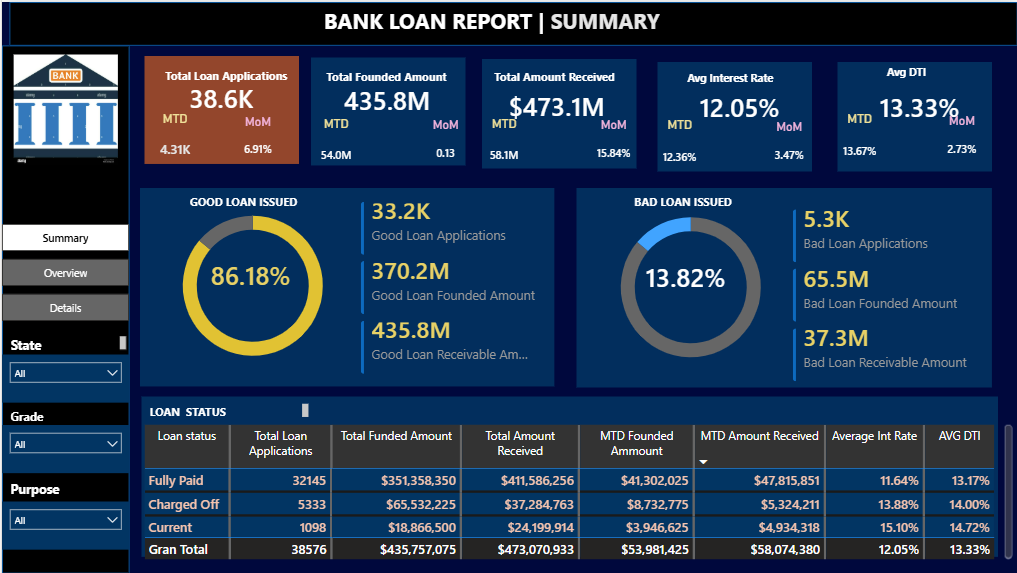

The page's visual inventory and layout, read from the dashboard file:
{"tool":"powerbi","page":{"name":"Summary","canvas":[1280,720],"ordinal":0},"visuals":[{"type":"shape","box":[0,54.8,160.6,665.2],"z":0},{"type":"shape","box":[179.8,68,194.6,136.1],"z":0,"group":"g12"},{"type":"cardVisual","fields":{"Data":["bank_loan_data.Total Funded Amount"]},"box":[395.8,69.9,181.9,104.1],"z":0,"group":"g14"},{"type":"cardVisual","fields":{"Data":["bank_loan_data.Total Loan Applications"]},"box":[181,70.1,190.8,99],"z":0,"group":"g11"},{"type":"shape","box":[825.8,75.6,194.6,138],"z":0,"group":"g2"},{"type":"shape","box":[1052.6,75.6,194.6,138],"z":0,"group":"g1"},{"type":"textbox","box":[1052.1,73.7,173.5,70.2],"z":1000,"group":"g16"},{"type":"textbox","box":[186.9,78,190.8,66],"z":1000,"group":"g9"},{"type":"textbox","box":[602.2,79.4,186.6,70.2],"z":1000,"group":"g13"},{"type":"textbox","box":[390.5,79.6,186.6,70.2],"z":1000,"group":"g7"},{"type":"textbox","box":[823.3,81.3,186.6,70.2],"z":1000,"group":"g17"},{"type":"cardVisual","title":"MTD","fields":{"Data":["bank_loan_data.MTD dti"]},"box":[1029.9,137.4,101.1,81.3],"z":1000,"group":"g3"},{"type":"cardVisual","title":"MTD","fields":{"Data":["bank_loan_data.MTD Loan Applications"]},"box":[162.5,137.9,111.1,76.4],"z":1000,"group":"g8"},{"type":"cardVisual","title":"MTD","fields":{"Data":["bank_loan_data.MTD Amount Received"]},"box":[578.3,143.1,108.7,81.3],"z":1000,"group":"g4"},{"type":"cardVisual","title":"MTD","fields":{"Data":["bank_loan_data.MTD Founded Ammount"]},"box":[366.6,143.3,108.7,81.3],"z":1000,"group":"g5"},{"type":"cardVisual","title":"MTD","fields":{"Data":["bank_loan_data.MTD Int Rate"]},"box":[799.4,145,108.7,81.3],"z":1000,"group":"g6"},{"type":"shape","box":[173.4,233.8,522,250],"z":1000},{"type":"textbox","box":[206.8,237,197.2,35],"z":1000,"group":"g20"},{"type":"textbox","box":[765.1,237,185.7,35.1],"z":1000,"group":"g21"},{"type":"textbox","box":[6.4,415.1,155.9,28.6],"z":1000,"group":"g25"},{"type":"textbox","box":[181.3,501,210,27],"z":1000,"group":"g22"},{"type":"textbox","box":[4.8,505.8,155.6,35.9],"z":1000,"group":"g24"},{"type":"textbox","box":[9.5,563.1,181,70.2],"z":1000,"group":"g23"},{"type":"textbox","box":[4.8,598.1,157.2,35.1],"z":1000,"group":"g26"},{"type":"group","id":"g1","title":"Group 10","box":[1052.6,75.6,194.6,138],"z":2000},{"type":"cardVisual","title":"MoM","fields":{"Data":["bank_loan_data.MoM dti"]},"box":[1139.3,139.7,139.5,71.1],"z":2000,"group":"g3"},{"type":"cardVisual","title":"MoM","fields":{"Data":["bank_loan_data.MoM loan Applications"]},"box":[244,141.3,157.4,67.8],"z":2000,"group":"g11"},{"type":"cardVisual","title":"MoM","fields":{"Data":["bank_loan_data.MoM Amount Received"]},"box":[696,145.4,150.1,71.1],"z":2000,"group":"g4"},{"type":"cardVisual","title":"MoM","fields":{"Data":["bank_loan_data.MoM Total Founded Amount"]},"box":[484.3,145.6,150.1,71.1],"z":2000,"group":"g5"},{"type":"cardVisual","title":"MoM","fields":{"Data":["bank_loan_data.MoM Int Rate"]},"box":[917.1,147.3,150.1,71.1],"z":2000,"group":"g6"},{"type":"group","id":"g2","title":"Group 10","box":[825.8,75.6,194.6,138],"z":3000},{"type":"group","id":"g3","title":"Group 6","box":[1029.9,137.4,248.9,81.3],"z":3001,"group":"g16"},{"type":"group","id":"g4","title":"Group 6","box":[578.3,143.1,267.8,81.3],"z":3001,"group":"g13"},{"type":"group","id":"g5","title":"Group 6","box":[366.6,143.3,267.8,81.3],"z":3001,"group":"g7"},{"type":"group","id":"g6","title":"Group 6","box":[799.4,145,267.8,81.3],"z":3001,"group":"g17"},{"type":"group","id":"g7","title":"Group 7","box":[366.6,79.6,267.8,145],"z":3002,"group":"g14"},{"type":"shape","box":[604.7,71.8,194.6,138],"z":4000},{"type":"cardVisual","fields":{"Data":["bank_loan_data.Total Amount Received"]},"box":[608.5,77.5,181.4,103.9],"z":4000,"group":"g19"},{"type":"shape","box":[9.4,0,1269.9,55],"z":5000},{"type":"group","id":"g8","title":"Group 1","box":[162.5,70.1,238.9,144.2],"z":5003,"group":"g9"},{"type":"group","id":"g9","title":"Group 3","box":[162.5,70.1,238.3,144],"z":5004,"group":"g12"},{"type":"group","id":"g10","title":"Group 2","box":[181,70.1,220.4,139],"z":5004,"group":"g8"},{"type":"group","id":"g11","title":"Group 4","box":[181,70.1,220.4,139],"z":5005,"group":"g10"},{"type":"shape","box":[389.3,69.9,194.6,136.1],"z":6000},{"type":"textbox","box":[400.6,0,629.3,94.5],"z":7000},{"type":"group","id":"g12","title":"Group 5","box":[162.5,68,238.1,145.5],"z":8000},{"type":"group","id":"g13","title":"Group 7","box":[578.3,79.4,268.3,145.5],"z":8000,"group":"g19"},{"type":"group","id":"g14","title":"Group 8","box":[366.6,69.9,266.5,155],"z":9000},{"type":"group","id":"g15","title":"Group 7","box":[1029.9,73.7,249.5,145.5],"z":10000},{"type":"cardVisual","fields":{"Data":["bank_loan_data.Average Int Rate"]},"box":[839.8,84.8,181.4,90.7],"z":10000,"group":"g2"},{"type":"cardVisual","fields":{"Data":["bank_loan_data.AVG DTI"]},"box":[1066.6,84.8,181.4,90.7],"z":10000,"group":"g1"},{"type":"group","id":"g16","title":"Group 9","box":[1029.9,73.7,248.9,145],"z":10001,"group":"g15"},{"type":"group","id":"g17","title":"Group 9","box":[799.4,81.3,267.8,145],"z":10001,"group":"g18"},{"type":"group","id":"g18","title":"Group 7","box":[799.4,81.3,268.3,145.5],"z":11000},{"type":"cardVisual","fields":{"Data":["bank_loan_data.Good loan %"]},"box":[222.7,303.8,181.4,77.5],"z":12000},{"type":"group","id":"g19","title":"Group 11","box":[578.3,77.5,268.3,147.4],"z":13000},{"type":"shape","box":[723.7,233.8,523.5,251.3],"z":14000},{"type":"donutChart","fields":{"Category":["bank_loan_data.Good vs Bad Loans"],"Y":["bank_loan_data.Total Loan Applications"]},"box":[190.9,241.8,249.5,230.6],"z":15000},{"type":"group","id":"g20","title":"Group 8","box":[206.8,237,197.2,35],"z":16000},{"type":"cardVisual","fields":{"Data":["bank_loan_data.Good loan Applications","bank_loan_data.Good loan founded amount","bank_loan_data.Good loan total receivable"]},"box":[434.2,233.8,268.3,251.3],"z":17000},{"type":"donutChart","fields":{"Category":["bank_loan_data.Good vs Bad Loans"],"Y":["bank_loan_data.Total Loan Applications"]},"box":[742.8,243.4,249.5,230.6],"z":18000},{"type":"group","id":"g21","title":"Group 8","box":[765.1,237,186.1,35],"z":19000},{"type":"cardVisual","fields":{"Data":["bank_loan_data.Bad loan %"]},"box":[771.4,305.4,181.4,77.5],"z":20000},{"type":"cardVisual","fields":{"Data":["bank_loan_data.Bad Loan Applications","bank_loan_data.Bad Loan Founded Amount","bank_loan_data.Bad Loan Receivable Amount"]},"box":[978.2,243.4,268.3,251.3],"z":21000},{"type":"shape","box":[175,496.3,1079.1,202.2],"z":22000},{"type":"tableEx","fields":{"Values":["bank_loan_data.loan_status","bank_loan_data.Total Loan Applications","bank_loan_data.Total Funded Amount","bank_loan_data.Total Amount Received","bank_loan_data.MTD Founded Ammount","bank_loan_data.MTD Amount Received","bank_loan_data.Average Int Rate","bank_loan_data.AVG DTI"]},"box":[173.4,528.1,1103.6,179.5],"z":23000},{"type":"slicer","fields":{"Values":["bank_loan_data.address_state"]},"box":[0,443.8,160.7,60.4],"z":24000},{"type":"group","id":"g22","title":"Group 8","box":[181.3,501,210,27],"z":25000},{"type":"group","id":"g23","title":"Group 8","box":[9.5,563.1,181.3,70],"z":26000},{"type":"group","id":"g24","title":"Group 8","box":[4.8,505.8,155.9,35],"z":27000},{"type":"slicer","fields":{"Values":["bank_loan_data.grade"]},"box":[0,532.9,160.7,60.4],"z":28000},{"type":"group","id":"g25","title":"Group 8","box":[6.4,415.1,155.9,28.6],"z":29000},{"type":"group","id":"g26","title":"Group 8","box":[4.8,598.1,157.5,35],"z":30000},{"type":"slicer","fields":{"Values":["bank_loan_data.purpose"]},"box":[0,629.9,160.7,60.4],"z":31000},{"type":"image","box":[0,66.8,160.7,138.4],"z":31001},{"type":"pageNavigator","box":[0,279.9,160.7,124.1],"z":31002}]}

Visuals, with their boxes in screenshot pixels (x1, y1, x2, y2), scaled from the page's 1280x720 canvas onto the 1017x573 screenshot:
shape: (0,44,128,572)
shape: (143,54,297,162)
cardVisual - bank_loan_data.Total Funded Amount: (314,56,459,138)
cardVisual - bank_loan_data.Total Loan Applications: (144,56,295,135)
shape: (656,60,811,170)
shape: (836,60,991,170)
textbox: (836,59,974,115)
textbox: (148,62,300,115)
textbox: (478,63,627,119)
textbox: (310,63,459,119)
textbox: (654,65,802,121)
"MTD" cardVisual: (818,109,899,174)
"MTD" cardVisual: (129,110,217,171)
"MTD" cardVisual: (459,114,546,179)
"MTD" cardVisual: (291,114,378,179)
"MTD" cardVisual: (635,115,722,180)
shape: (138,186,553,385)
textbox: (164,189,321,216)
textbox: (608,189,755,217)
textbox: (5,330,129,353)
textbox: (144,399,311,420)
textbox: (4,403,127,431)
textbox: (8,448,151,504)
textbox: (4,476,129,504)
"Group 10" group: (836,60,991,170)
"MoM" cardVisual: (905,111,1016,168)
"MoM" cardVisual: (194,112,319,166)
"MoM" cardVisual: (553,116,672,172)
"MoM" cardVisual: (385,116,504,172)
"MoM" cardVisual: (729,117,848,174)
"Group 10" group: (656,60,811,170)
"Group 6" group: (818,109,1016,174)
"Group 6" group: (459,114,672,179)
"Group 6" group: (291,114,504,179)
"Group 6" group: (635,115,848,180)
"Group 7" group: (291,63,504,179)
shape: (480,57,635,167)
cardVisual - bank_loan_data.Total Amount Received: (483,62,628,144)
shape: (7,0,1016,44)
"Group 1" group: (129,56,319,171)
"Group 3" group: (129,56,318,170)
"Group 2" group: (144,56,319,166)
"Group 4" group: (144,56,319,166)
shape: (309,56,464,164)
textbox: (318,0,818,75)
"Group 5" group: (129,54,318,170)
"Group 7" group: (459,63,673,179)
"Group 8" group: (291,56,503,179)
"Group 7" group: (818,59,1016,174)
cardVisual - bank_loan_data.Average Int Rate: (667,67,811,140)
cardVisual - bank_loan_data.AVG DTI: (847,67,992,140)
"Group 9" group: (818,59,1016,174)
"Group 9" group: (635,65,848,180)
"Group 7" group: (635,65,848,180)
cardVisual - bank_loan_data.Good loan %: (177,242,321,303)
"Group 11" group: (459,62,673,179)
shape: (575,186,991,386)
donutChart - bank_loan_data.Good vs Bad Loans x bank_loan_data.Total Loan Applications: (152,192,350,376)
"Group 8" group: (164,189,321,216)
cardVisual - bank_loan_data.Good loan Applications x bank_loan_data.Good loan founded amount: (345,186,558,386)
donutChart - bank_loan_data.Good vs Bad Loans x bank_loan_data.Total Loan Applications: (590,194,788,377)
"Group 8" group: (608,189,756,216)
cardVisual - bank_loan_data.Bad loan %: (613,243,757,305)
cardVisual - bank_loan_data.Bad Loan Applications x bank_loan_data.Bad Loan Founded Amount: (777,194,990,394)
shape: (139,395,996,556)
tableEx - bank_loan_data.loan_status x bank_loan_data.Total Loan Applications: (138,420,1015,563)
slicer - bank_loan_data.address_state: (0,353,128,401)
"Group 8" group: (144,399,311,420)
"Group 8" group: (8,448,152,504)
"Group 8" group: (4,403,128,430)
slicer - bank_loan_data.grade: (0,424,128,472)
"Group 8" group: (5,330,129,353)
"Group 8" group: (4,476,129,504)
slicer - bank_loan_data.purpose: (0,501,128,549)
image: (0,53,128,163)
pageNavigator: (0,223,128,322)
